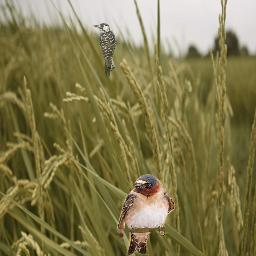Swallow: (117, 174, 175, 255)
Woodpecker: (93, 23, 120, 79)
